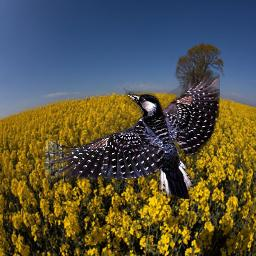Woodpecker: (45, 70, 220, 199)
